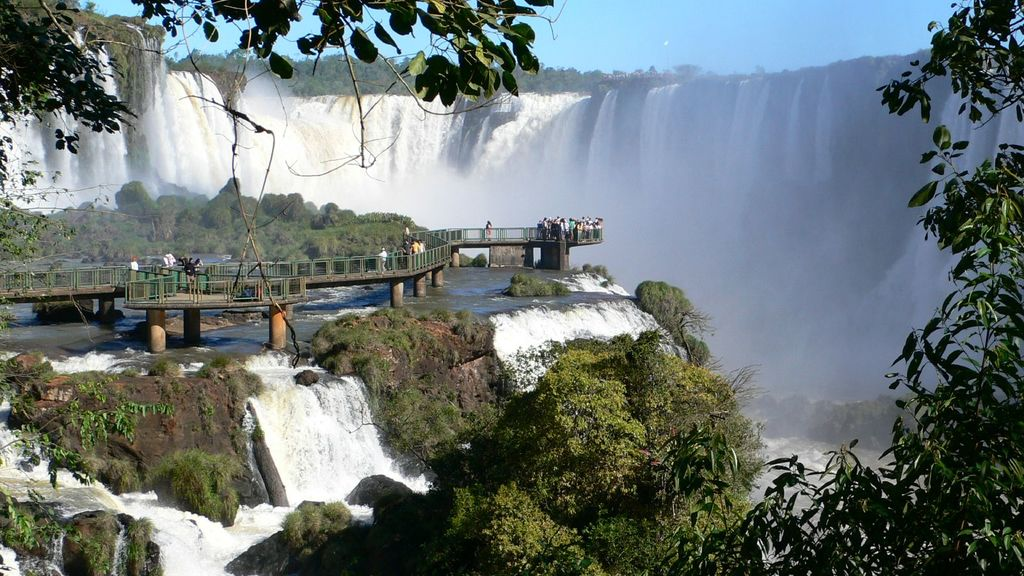Tree: (651, 0, 1023, 575), (0, 0, 567, 152), (339, 392, 471, 478), (647, 291, 718, 360)
